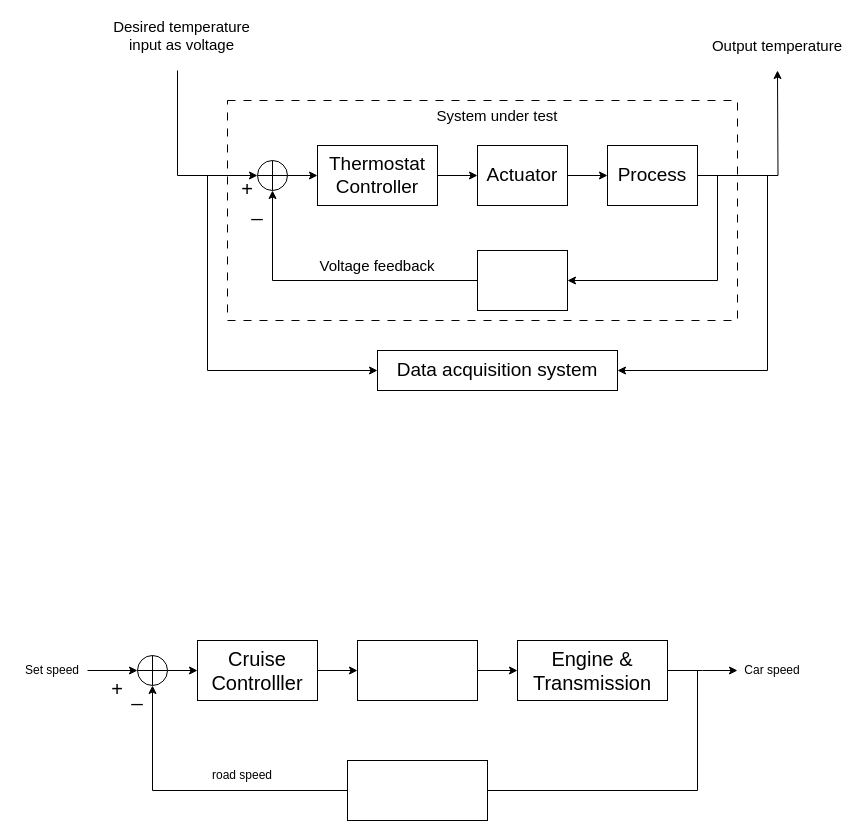
This 864x838 diagram has some shape labels left out. The centre of each missing label's shape, as x and y in pixels:
Thermal Sensor: point (522, 280)
Throttle Actuator: point (417, 670)
Vehicle speed sensor: point (417, 790)
